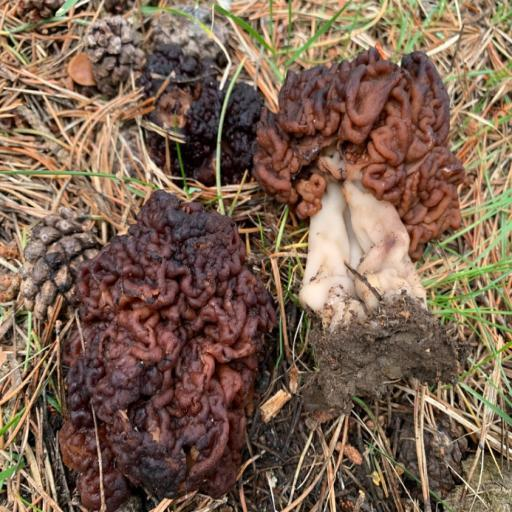mushroom: (247, 53, 508, 386), (74, 203, 274, 494)
